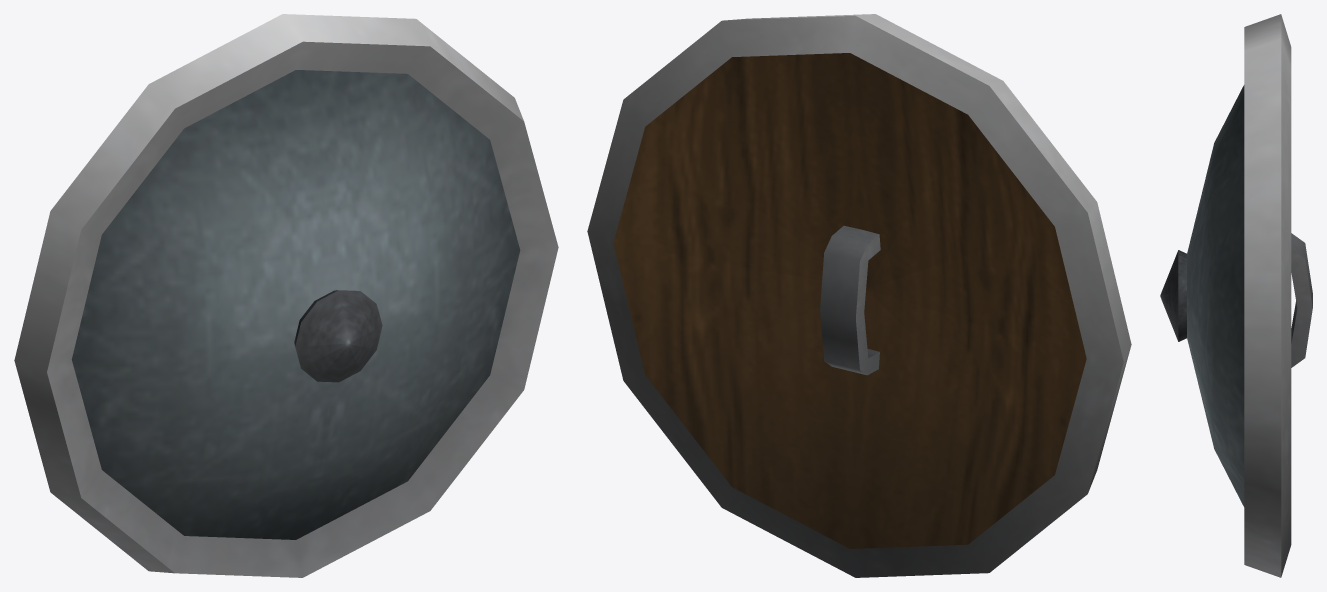
File: Shield_02.FBX
3 views of the same model, side by side, from view 1: azimuth 30°, elevation 25°; view 2: azimuth 150°, elevation 25°; view 3: azimuth 270°, elevation 25° (orthographic). The views are drawn at different scales.
Visible parts, largest first — view 1: Shield_02; view 2: Shield_02; view 3: Shield_02.
Part boxes in pixels (x1,y1,x2,y2): Shield_02: (14,14,558,577); Shield_02: (587,14,1131,577); Shield_02: (1160,14,1312,577).
Size of the model in its own units: 69.96 by 70.06 by 18.89.
